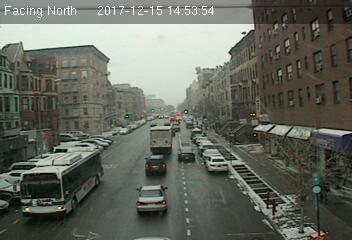bus: (16, 148, 101, 216)
car: (135, 185, 168, 211), (144, 154, 167, 174), (205, 155, 228, 172), (177, 147, 195, 160)
truck: (149, 126, 173, 154)
